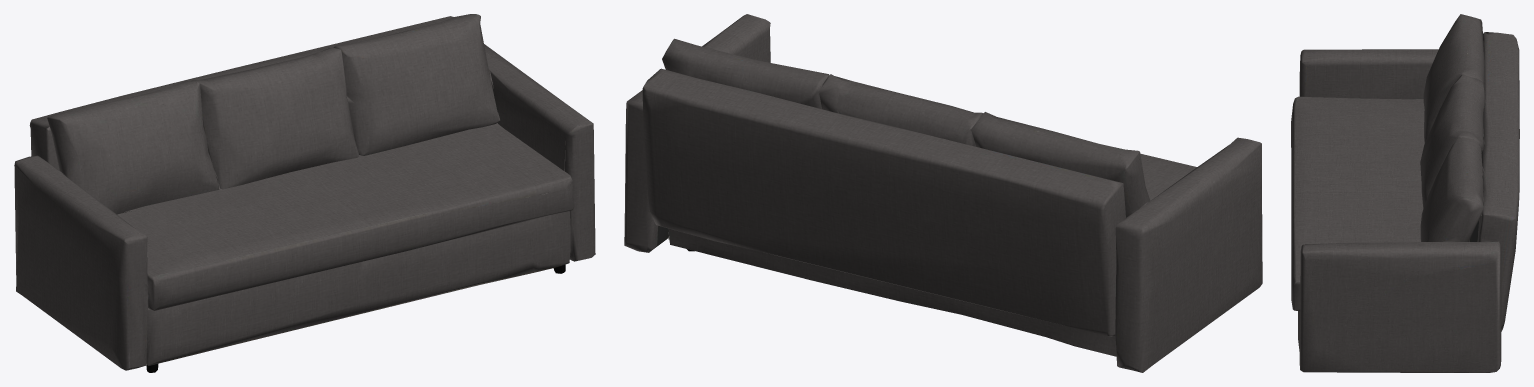
Rendered from 14-FRIHETEN 3 seater sofa bed - Skiftebo dark grey (50341148).glb.
3 renders of one model, left to right at view 1: azimuth 30°, elevation 25°; view 2: azimuth 150°, elevation 25°; view 3: azimuth 270°, elevation 25°, orthographic. The views are drawn at different scales.
Parts seen in each view (by area): view 1: 50341148-FRIHETEN001; view 2: 50341148-FRIHETEN001; view 3: 50341148-FRIHETEN001.
Boxes of the visible parts, box(x1,y1,x2,y2) form: 50341148-FRIHETEN001: box(14, 14, 595, 372); 50341148-FRIHETEN001: box(624, 14, 1262, 372); 50341148-FRIHETEN001: box(1291, 14, 1519, 372).
Size of the model in its own units: 2.27 by 0.8861 by 1.05.
1 material, 1 textured.
